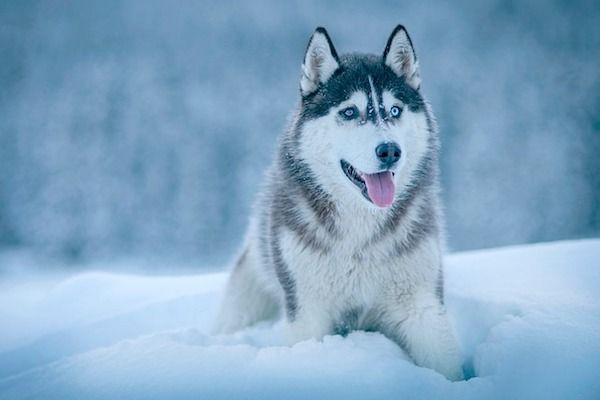husky: (215, 14, 481, 363)
